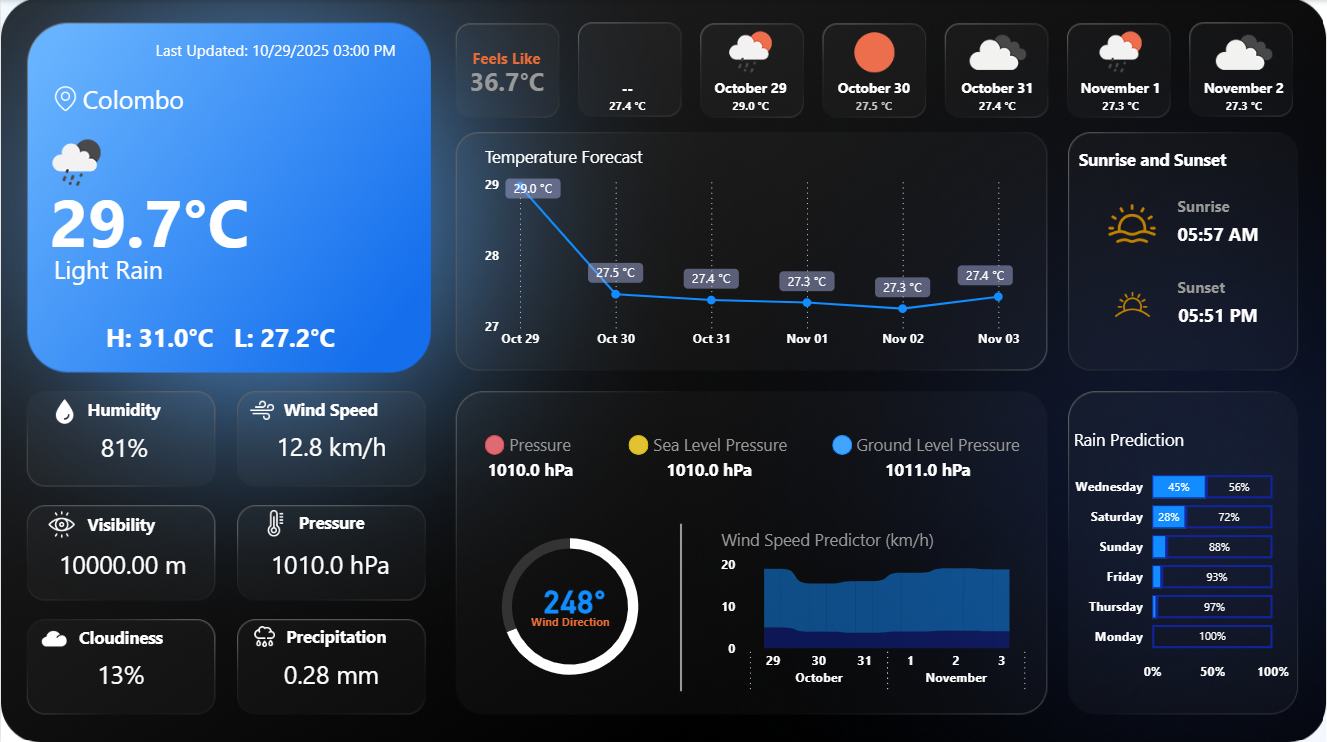

What the dashboard file says about the page in this screenshot:
{"tool":"powerbi","page":{"name":"Page 1","canvas":[1280,720],"ordinal":0},"visuals":[{"type":"group","id":"g1","title":"Group 1","box":[7.1,24.7,424.7,333],"z":0},{"type":"card","fields":{"Values":["Min(forecast?q=colombo&appid=ee3a7ddd78572e35da274b577d6fa97c.city_name)"]},"box":[66.2,76.6,123.1,39.8],"z":0,"group":"g1"},{"type":"textbox","box":[1035.5,137.1,189.4,31.4],"z":0,"group":"g15"},{"type":"image","box":[1062.2,266.9,60.3,55],"z":0,"group":"g3"},{"type":"image","box":[229.7,378.6,45.2,34.6],"z":0,"group":"g7"},{"type":"image","box":[39,380.4,45.2,34.6],"z":0,"group":"g4"},{"type":"group","id":"g2","title":"Group 14","box":[447.6,412.6,126.7,65.1],"z":0,"group":"g8"},{"type":"textbox","box":[482.6,412.6,72.4,39.8],"z":0,"group":"g16"},{"type":"textbox","box":[617.5,412.6,146,39.8],"z":0,"group":"g17"},{"type":"textbox","box":[816.8,412.6,171.3,39.8],"z":0,"group":"g18"},{"type":"image","box":[243,487.7,45.2,35.5],"z":0,"group":"g12"},{"type":"image","box":[36.4,488.6,45.2,35.5],"z":0,"group":"g10"},{"type":"donutChart","fields":{"Y":["Weather Forecast.wind_deg_display","Weather Forecast.maximum_wind_deg"]},"box":[462,498.3,174.7,174.7],"z":0,"group":"g11"},{"type":"ribbonChart","title":"Wind Speed Predictor (km/h)","fields":{"Y":["Sum(Average_Wind_Speed_By_Day.Average Wind Guest Speed)","Sum(Average_Wind_Speed_By_Day.Average Wind Speed)"],"Category":["Average_Wind_Speed_By_Day.Date.Variation.Date Hierarchy.Month","Average_Wind_Speed_By_Day.Date.Variation.Date Hierarchy.Day"]},"box":[690.1,509.1,307.6,167.7],"z":0,"group":"g19"},{"type":"image","box":[231.4,597.6,45.2,34.6],"z":0,"group":"g14"},{"type":"textbox","box":[68.8,599.6,94.1,38.6],"z":0,"group":"g13"},{"type":"card","fields":{"Values":["Weather Forecast.temperature_display"]},"box":[8.3,149,270.2,121.9],"z":1000,"group":"g1"},{"type":"group","id":"g3","title":"Group 8","box":[1062.2,261.6,165.8,63.8],"z":1000,"group":"g15"},{"type":"textbox","box":[1130.5,261.6,66.5,34.6],"z":1000,"group":"g3"},{"type":"group","id":"g4","title":"Group 2","box":[39,378.6,123.3,89.7],"z":1000},{"type":"textbox","box":[78.9,378.6,83.3,38.1],"z":1000,"group":"g4"},{"type":"card","fields":{"Values":["Weather Forecast.wind_speed_display"]},"box":[242.5,404.1,153.2,56.7],"z":1000,"group":"g7"},{"type":"group","id":"g5","title":"Group 15","box":[605.4,412.6,158,65.1],"z":1000,"group":"g8"},{"type":"shape","box":[466.9,419.8,19,19.3],"z":1000,"group":"g16"},{"type":"shape","box":[605.4,419.8,19.3,19.3],"z":1000,"group":"g17"},{"type":"shape","box":[802.3,419.8,19.3,19.3],"z":1000,"group":"g18"},{"type":"textbox","box":[282,488.6,83.3,38.1],"z":1000,"group":"g12"},{"type":"textbox","box":[79,489.5,80.7,33.7],"z":1000,"group":"g10"},{"type":"shape","box":[639.4,505.5,33.8,161.7],"z":1000,"group":"g19"},{"type":"card","fields":{"Values":["Weather Forecast.wind_deg_display_card"]},"box":[506.3,546.2,94,64.7],"z":1000,"group":"g11"},{"type":"textbox","box":[269.5,598.5,111.7,39],"z":1000,"group":"g14"},{"type":"image","box":[29,599.6,44.6,33.8],"z":1000,"group":"g13"},{"type":"group","id":"g6","title":"Group 9","box":[1062.2,182.7,165.8,64.7],"z":2000,"group":"g15"},{"type":"card","fields":{"Values":["Weather Forecast.main_weather_display"]},"box":[18,226.2,171.3,70],"z":2000,"group":"g1"},{"type":"card","fields":{"Values":["Min(Weather Forecast.sunset)"]},"box":[1122.5,286.4,105.5,39],"z":2000,"group":"g3"},{"type":"group","id":"g7","title":"Group 3","box":[229.7,378.6,166.1,82.2],"z":2000},{"type":"textbox","box":[268.7,378.6,107.3,38.1],"z":2000,"group":"g7"},{"type":"card","fields":{"Values":["Weather Forecast.humidity_display"]},"box":[77.4,397.4,84,70.8],"z":2000,"group":"g4"},{"type":"group","id":"g8","title":"Group 17","box":[447.6,412.6,540.5,65.1],"z":2000,"group":"g19"},{"type":"group","id":"g9","title":"Group 16","box":[802.3,412.6,185.8,65.1],"z":2000,"group":"g8"},{"type":"card","fields":{"Values":["Weather Forecast.visibility_display"]},"box":[29,517.6,177.3,57.9],"z":2000,"group":"g10"},{"type":"card","fields":{"Values":["Weather Forecast.pressure_display"]},"box":[241.3,517.6,153.2,56.7],"z":2000,"group":"g12"},{"type":"textbox","box":[504.6,585.2,90.4,32.8],"z":2000,"group":"g11"},{"type":"card","fields":{"Values":["Weather Forecast.cloudiness_display"]},"box":[73.6,617.7,84.5,70],"z":2000,"group":"g13"},{"type":"card","fields":{"Values":["Weather Forecast.precipitation_display"]},"box":[242.5,623.7,153.2,56.7],"z":2000,"group":"g14"},{"type":"card","fields":{"Values":["Weather Forecast.minimum_temperature_display"]},"box":[198.9,296.1,149.6,60.3],"z":3000,"group":"g1"},{"type":"group","id":"g10","title":"Group 4","box":[29,488.6,177.3,86.9],"z":3000},{"type":"group","id":"g11","title":"Group 18","box":[462,498.3,174.7,174.7],"z":3000,"group":"g19"},{"type":"card","fields":{"Values":["Weather Forecast.maximum_temperature_display"]},"box":[79.5,296.1,147.2,61.5],"z":4000,"group":"g1"},{"type":"group","id":"g12","title":"Group 5","box":[241.3,487.7,153.2,86.6],"z":4000},{"type":"image","box":[44.5,77.8,35,33.8],"z":5000,"group":"g1"},{"type":"group","id":"g13","title":"Group 6","box":[29,599.6,133.9,88.1],"z":5000},{"type":"card","fields":{"Values":["Weather Forecast.last_updated_time_display"]},"box":[98.8,24.7,333,51.9],"z":6000,"group":"g1"},{"type":"group","id":"g14","title":"Group 7","box":[231.4,597.6,164.3,82.8],"z":6000},{"type":"group","id":"g15","title":"Group 10","box":[1035.5,137.1,192.6,188.3],"z":7000},{"type":"cardVisual","fields":{"Data":["Weather Forecast.current_image_url"]},"box":[7.1,94.7,135.1,123.1],"z":7006,"group":"g1"},{"type":"lineChart","title":"Temperature Forecast","fields":{"Y":["Sum(Average_Temperature_By_Day.Average Temperature)"],"Category":["Average_Temperature_By_Day.Date.Variation.Date Hierarchy.Year","Average_Temperature_By_Day.Date.Variation.Date Hierarchy.Quarter","Average_Temperature_By_Day.Date.Variation.Date Hierarchy.Month","Average_Temperature_By_Day.Date.Variation.Date Hierarchy.Day"]},"box":[462,140.1,526.7,205.7],"z":8000},{"type":"image","box":[1062.2,188,60.3,55],"z":8000,"group":"g6"},{"type":"hundredPercentStackedBarChart","title":"Rain Prediction","fields":{"Y":["Sum(Average rain Probability.Average Rain Probability)","Sum(Average rain Probability.Average Left Rain Probability)"],"Category":["Average rain Probability.Day_Name"]},"box":[1030.3,413.2,218.1,254.5],"z":9000},{"type":"advancedSlicerVisual","fields":{"Values":["Midday_Images.DateOnly"]},"box":[555.1,19.5,695.2,100.2],"z":10000},{"type":"textbox","box":[1131.4,182.7,66.5,34.6],"z":10000,"group":"g6"},{"type":"group","id":"g16","title":"Group 11","box":[466.9,412.6,88.1,39.8],"z":11000,"group":"g2"},{"type":"card","fields":{"Values":["Min(Weather Forecast.sunrise)"]},"box":[1122.5,208.4,105.5,39],"z":11001,"group":"g6"},{"type":"group","id":"g17","title":"Group 12","box":[605.4,412.6,158,39.8],"z":12000,"group":"g5"},{"type":"group","id":"g18","title":"Group 13","box":[802.3,412.6,185.8,39.8],"z":13000,"group":"g9"},{"type":"group","id":"g19","title":"Group 19","box":[447.6,412.6,550.1,264.2],"z":13005},{"type":"card","fields":{"Values":["Weather Forecast.feels_like_temperature_display"]},"box":[439.1,36.2,98.9,86.9],"z":13006,"group":"g20"},{"type":"textbox","box":[450,41,76,50.7],"z":13007,"group":"g20"},{"type":"group","id":"g20","title":"Group 20","box":[439.1,36.2,98.9,86.9],"z":13008},{"type":"card","fields":{"Values":["Weather Forecast.pressure_display"]},"box":[447.6,433.1,126.7,44.6],"z":14000,"group":"g2"},{"type":"card","fields":{"Values":["Weather Forecast.sea_level_pressure_display"]},"box":[620.1,433.1,126.7,44.6],"z":15000,"group":"g5"},{"type":"card","fields":{"Values":["Weather Forecast.ground_level_pressure_display"]},"box":[831.3,433.1,126.7,44.6],"z":16000,"group":"g9"}]}

Visuals, with their boxes in screenshot pixels (x1, y1, x2, y2), scaled from the page's 1280x720 canvas onto the 1327x742 screenshot:
"Group 1" group: x1=7 y1=25 x2=448 y2=369
card - Min(forecast?q=colombo&appid=ee3a7ddd78572e35da274b577d6fa97c.city_name): x1=69 y1=79 x2=196 y2=120
textbox: x1=1074 y1=141 x2=1270 y2=174
image: x1=1101 y1=275 x2=1164 y2=332
image: x1=238 y1=390 x2=285 y2=426
image: x1=40 y1=392 x2=87 y2=428
"Group 14" group: x1=464 y1=425 x2=595 y2=492
textbox: x1=500 y1=425 x2=575 y2=466
textbox: x1=640 y1=425 x2=792 y2=466
textbox: x1=847 y1=425 x2=1024 y2=466
image: x1=252 y1=503 x2=299 y2=539
image: x1=38 y1=504 x2=85 y2=540
donutChart - Weather Forecast.wind_deg_display x Weather Forecast.maximum_wind_deg: x1=479 y1=514 x2=660 y2=694
"Wind Speed Predictor (km/h)" ribbonChart: x1=715 y1=525 x2=1034 y2=697
image: x1=240 y1=616 x2=287 y2=652
textbox: x1=71 y1=618 x2=169 y2=658
card - Weather Forecast.temperature_display: x1=9 y1=154 x2=289 y2=279
"Group 8" group: x1=1101 y1=270 x2=1273 y2=335
textbox: x1=1172 y1=270 x2=1241 y2=305
"Group 2" group: x1=40 y1=390 x2=168 y2=483
textbox: x1=82 y1=390 x2=168 y2=429
card - Weather Forecast.wind_speed_display: x1=251 y1=416 x2=410 y2=475
"Group 15" group: x1=628 y1=425 x2=791 y2=492
shape: x1=484 y1=433 x2=504 y2=453
shape: x1=628 y1=433 x2=648 y2=453
shape: x1=832 y1=433 x2=852 y2=453
textbox: x1=292 y1=504 x2=379 y2=543
textbox: x1=82 y1=504 x2=166 y2=539
shape: x1=663 y1=521 x2=698 y2=688
card - Weather Forecast.wind_deg_display_card: x1=525 y1=563 x2=622 y2=630
textbox: x1=279 y1=617 x2=395 y2=657
image: x1=30 y1=618 x2=76 y2=653
"Group 9" group: x1=1101 y1=188 x2=1273 y2=255
card - Weather Forecast.main_weather_display: x1=19 y1=233 x2=196 y2=305
card - Min(Weather Forecast.sunset): x1=1164 y1=295 x2=1273 y2=335
"Group 3" group: x1=238 y1=390 x2=410 y2=475
textbox: x1=279 y1=390 x2=390 y2=429
card - Weather Forecast.humidity_display: x1=80 y1=410 x2=167 y2=483
"Group 17" group: x1=464 y1=425 x2=1024 y2=492
"Group 16" group: x1=832 y1=425 x2=1024 y2=492
card - Weather Forecast.visibility_display: x1=30 y1=533 x2=214 y2=593
card - Weather Forecast.pressure_display: x1=250 y1=533 x2=409 y2=592
textbox: x1=523 y1=603 x2=617 y2=637
card - Weather Forecast.cloudiness_display: x1=76 y1=637 x2=164 y2=709
card - Weather Forecast.precipitation_display: x1=251 y1=643 x2=410 y2=701
card - Weather Forecast.minimum_temperature_display: x1=206 y1=305 x2=361 y2=367
"Group 4" group: x1=30 y1=504 x2=214 y2=593
"Group 18" group: x1=479 y1=514 x2=660 y2=694
card - Weather Forecast.maximum_temperature_display: x1=82 y1=305 x2=235 y2=369
"Group 5" group: x1=250 y1=503 x2=409 y2=592
image: x1=46 y1=80 x2=82 y2=115
"Group 6" group: x1=30 y1=618 x2=169 y2=709
card - Weather Forecast.last_updated_time_display: x1=102 y1=25 x2=448 y2=79
"Group 7" group: x1=240 y1=616 x2=410 y2=701
"Group 10" group: x1=1074 y1=141 x2=1273 y2=335
cardVisual - Weather Forecast.current_image_url: x1=7 y1=98 x2=147 y2=224
"Temperature Forecast" lineChart: x1=479 y1=144 x2=1025 y2=356
image: x1=1101 y1=194 x2=1164 y2=250
"Rain Prediction" hundredPercentStackedBarChart: x1=1068 y1=426 x2=1294 y2=688
advancedSlicerVisual - Midday_Images.DateOnly: x1=575 y1=20 x2=1296 y2=123
textbox: x1=1173 y1=188 x2=1242 y2=224
"Group 11" group: x1=484 y1=425 x2=575 y2=466
card - Min(Weather Forecast.sunrise): x1=1164 y1=215 x2=1273 y2=255
"Group 12" group: x1=628 y1=425 x2=791 y2=466
"Group 13" group: x1=832 y1=425 x2=1024 y2=466
"Group 19" group: x1=464 y1=425 x2=1034 y2=697
card - Weather Forecast.feels_like_temperature_display: x1=455 y1=37 x2=558 y2=127
textbox: x1=467 y1=42 x2=545 y2=95
"Group 20" group: x1=455 y1=37 x2=558 y2=127
card - Weather Forecast.pressure_display: x1=464 y1=446 x2=595 y2=492
card - Weather Forecast.sea_level_pressure_display: x1=643 y1=446 x2=774 y2=492
card - Weather Forecast.ground_level_pressure_display: x1=862 y1=446 x2=993 y2=492
